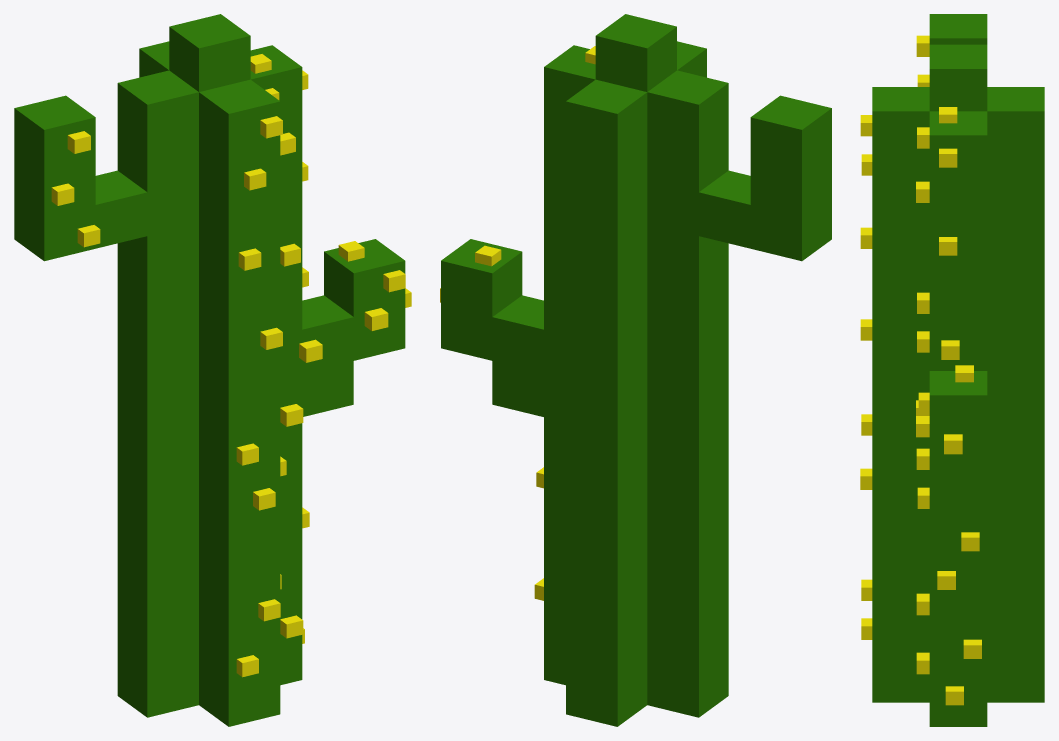
The model's file is cactus_3.fbx.
3 renders of one model, left to right at view 1: azimuth 30°, elevation 25°; view 2: azimuth 150°, elevation 25°; view 3: azimuth 270°, elevation 25°, orthographic. The views are drawn at different scales.
Parts seen in each view (by area): view 1: Torus.001; view 2: Torus.001; view 3: Torus.001.
Boxes of the visible parts, <box> form: Torus.001: <box>14,14,411,726</box>; Torus.001: <box>440,14,831,726</box>; Torus.001: <box>860,14,1044,726</box>.
Bounding box in the file's own units: 418 × 700 × 185.
